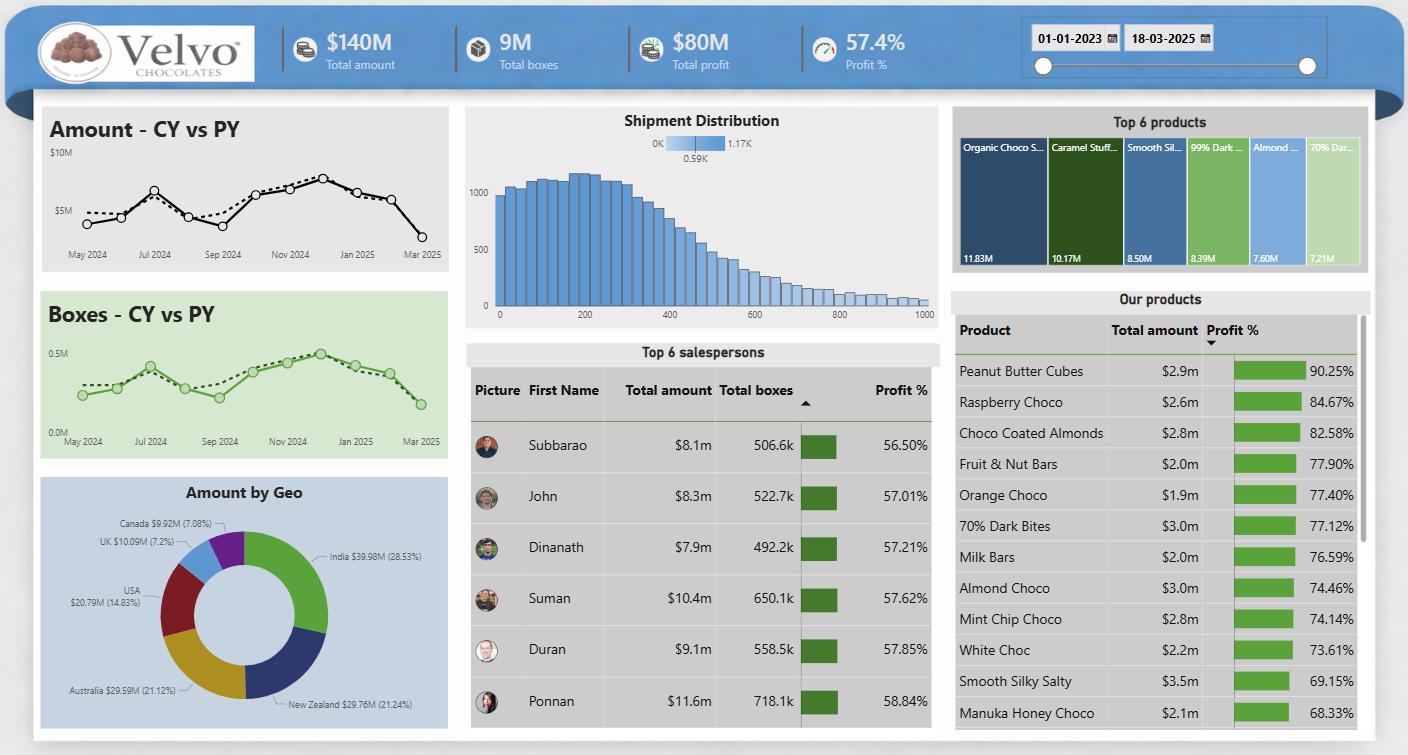

The page's visual inventory and layout, read from the dashboard file:
{"tool":"powerbi","page":{"name":"Page 8","canvas":[1920,1080],"ordinal":7},"visuals":[{"type":"lineChart","title":"Amount - CY vs PY","fields":{"Category":["calendar.Start of Month"],"Y":["shipments.Total amount","calendar.Total amount (last year)"]},"box":[60,176.7,550,223.3],"z":0},{"type":"lineChart","title":"Boxes - CY vs PY","fields":{"Category":["calendar.Start of Month"],"Y":["products.Total boxes","shipments.Total boxes (last year)"]},"box":[59.1,425.3,550.5,226.8],"z":1000},{"type":"donutChart","title":"Amount by Geo","fields":{"Category":["locations.Geo"],"Y":["shipments.Total amount"]},"box":[59.1,678.1,550.5,340.2],"z":2000},{"type":"clusteredColumnChart","title":"Shipment Distribution","fields":{"Category":["shipments.Boxes (bins)"],"Y":["shipments.shipment count"]},"box":[633.2,177.2,640.3,300.1],"z":3000},{"type":"tableEx","title":"Top 6 salespersons","fields":{"Values":["people.Picture","people.First Name","shipments.Total amount","products.Total boxes","shipments.Profit %"]},"box":[635.5,496.2,640.3,536.3],"z":4000},{"type":"treemap","title":"Top 6 products","fields":{"Group":["products.Product"],"Values":["Sum(shipments.Amount)"]},"box":[1291.1,176.2,562,224.8],"z":5000},{"type":"tableEx","title":"Our products","fields":{"Values":["products.Product","shipments.Total amount","shipments.Profit %"]},"box":[1290,425.3,567,593],"z":6000},{"type":"cardVisual","fields":{"Data":["shipments.Total amount","products.Total boxes","shipments.Total profit","shipments.Profit %"]},"box":[369,50.7,963.1,97.3],"z":7000},{"type":"slicer","fields":{"Values":["calendar.cal_date"]},"box":[1384.8,54.7,413.6,83.1],"z":8000}]}

Visuals, with their boxes on the page's 1920x1080 design canvas (x1, y1, x2, y2). These are canvas units, not pixel positions in the 1408x755 screenshot, which may show the page scaled, cropped or inside an application window:
"Amount - CY vs PY" lineChart: BBox(60, 177, 610, 400)
"Boxes - CY vs PY" lineChart: BBox(59, 425, 610, 652)
"Amount by Geo" donutChart: BBox(59, 678, 610, 1018)
"Shipment Distribution" clusteredColumnChart: BBox(633, 177, 1274, 477)
"Top 6 salespersons" tableEx: BBox(636, 496, 1276, 1032)
"Top 6 products" treemap: BBox(1291, 176, 1853, 401)
"Our products" tableEx: BBox(1290, 425, 1857, 1018)
cardVisual - shipments.Total amount x products.Total boxes: BBox(369, 51, 1332, 148)
slicer - calendar.cal_date: BBox(1385, 55, 1798, 138)
